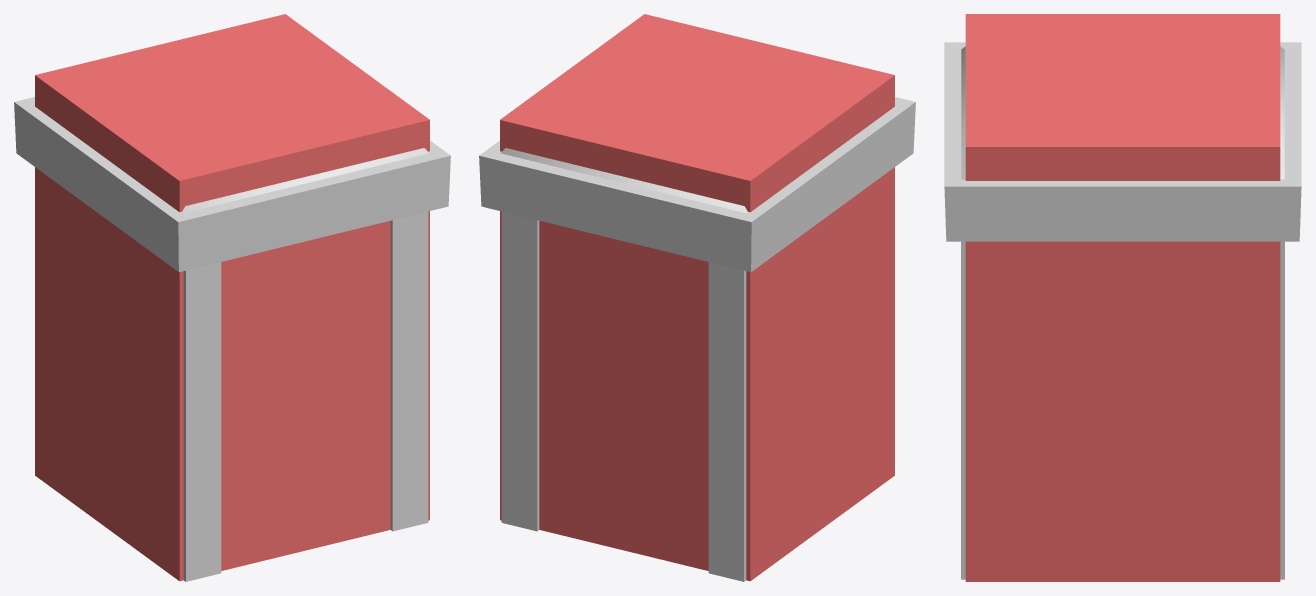
Rendered from prop_stool.glb.
The picture shows the model from 3 angles, left to right: view 1: azimuth 30°, elevation 25°; view 2: azimuth 150°, elevation 25°; view 3: azimuth 270°, elevation 25°; orthographic projection. The views are drawn at different scales.
Parts seen in each view (by area): view 1: brush_box.010, prop_stool; view 2: brush_box.010, prop_stool; view 3: brush_box.010, prop_stool.
Part boxes in pixels (x1,y1,x2,y2): brush_box.010: (35, 14, 429, 581); prop_stool: (14, 97, 450, 581); brush_box.010: (500, 14, 894, 581); prop_stool: (479, 97, 915, 581); brush_box.010: (965, 14, 1280, 581); prop_stool: (944, 42, 1301, 579).
Size of the model in its own units: 0.3441 by 0.483 by 0.3593.
